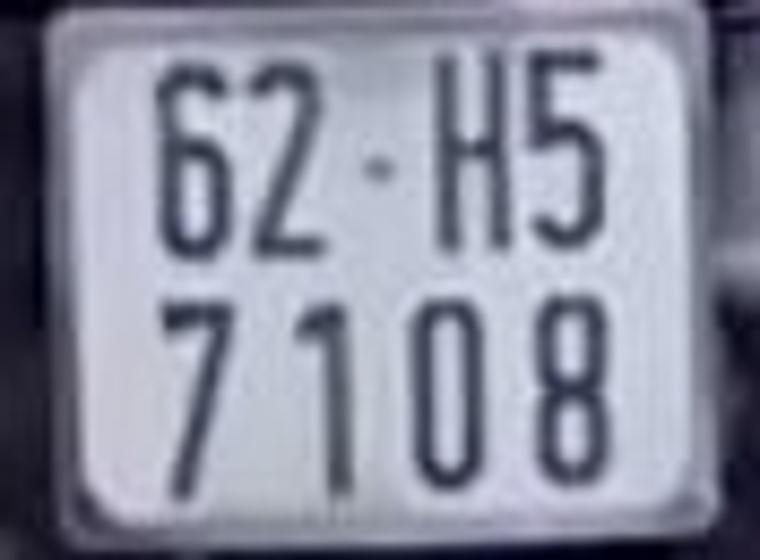.: (360, 152, 400, 184)
0: (403, 294, 489, 495)
1: (291, 296, 359, 501)
2: (242, 56, 334, 260)
5: (524, 41, 614, 256)
6: (151, 61, 235, 259)
7: (160, 298, 240, 511)
8: (529, 288, 614, 489)
H: (424, 42, 519, 254)
